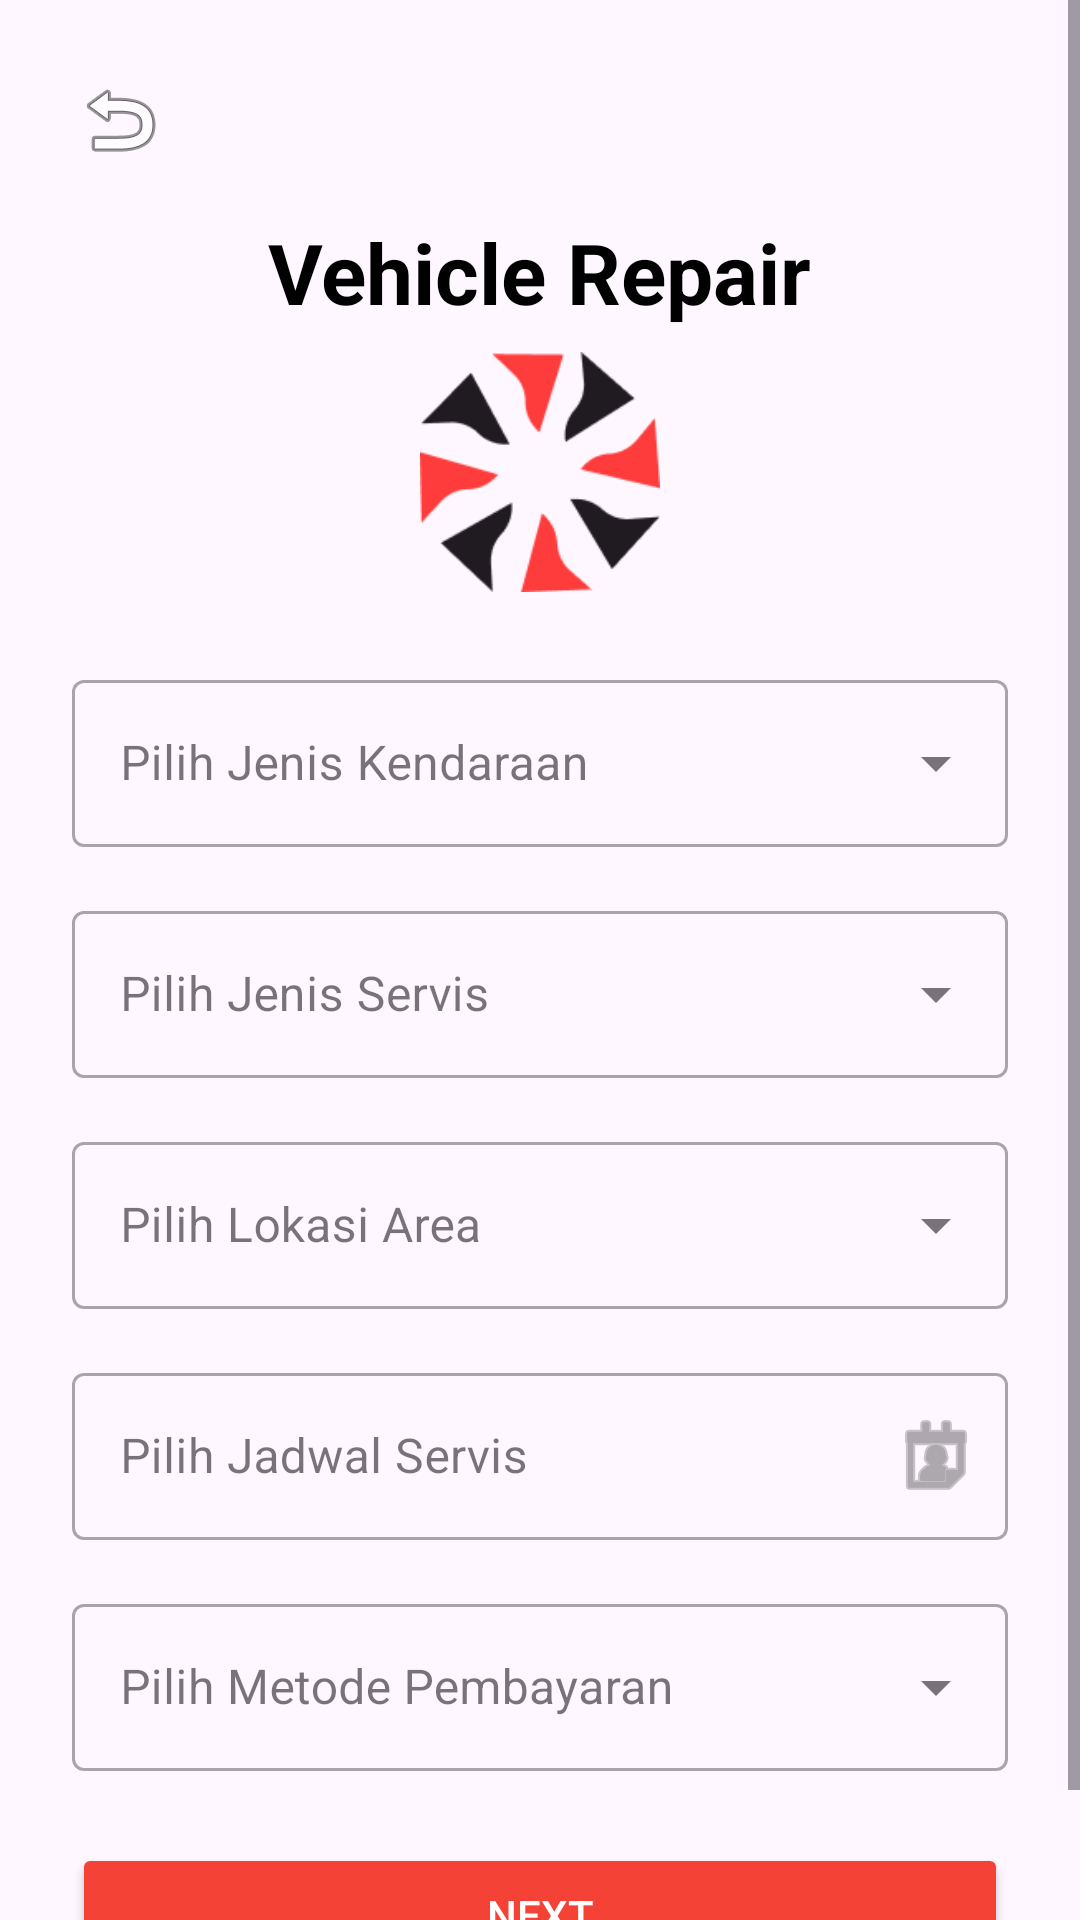

Locate icon controls on the screen. Image size 1080px x 1920px, boxes as (x1, y1, x2, y2).
Back: (87, 89, 156, 152)
